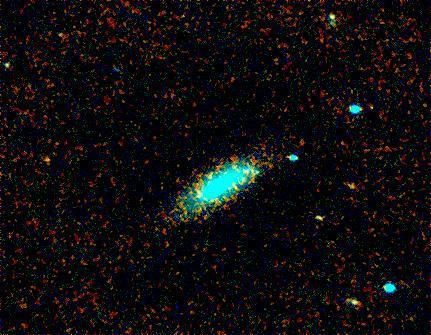star: (33, 143, 63, 173)
